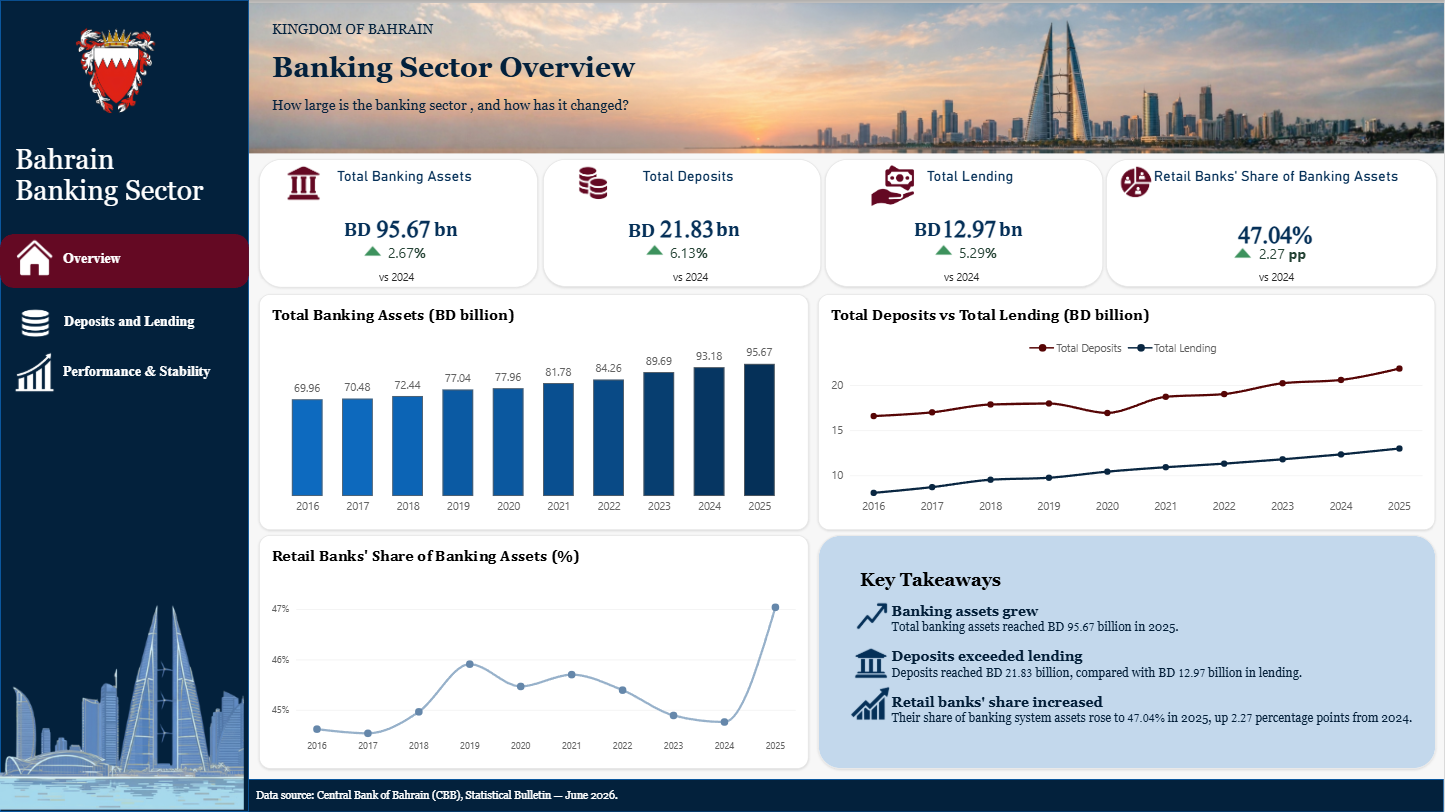

The dashboard page shown, as its layout file describes it:
{"tool":"powerbi","page":{"name":"Overview","canvas":[1920,1080],"ordinal":0},"visuals":[{"type":"shape","box":[0,1035.6,1920.3,44.4],"z":0},{"type":"image","box":[316.1,0,1603.9,175.8],"z":1000},{"type":"image","box":[316.1,0,1603.8,208.7],"z":2000},{"type":"shape","box":[0,0,331.2,1079.6],"z":3000},{"type":"shape","box":[0,311.2,331.2,71.8],"z":4000},{"type":"image","box":[33.3,0,244.7,190.2],"z":5000},{"type":"textbox","box":[20.2,189.9,320.5,102.3],"z":6000},{"type":"image","box":[20.2,311.1,52.5,61.9],"z":7000},{"type":"image","box":[20.2,405.3,52.5,45.8],"z":8000},{"type":"image","box":[10.8,464.6,72.7,61.9],"z":9000},{"type":"textbox","box":[83.5,332.6,106.4,35],"z":11000},{"type":"textbox","box":[84.8,416.1,193.9,35],"z":12000},{"type":"textbox","box":[83.8,482.8,210.1,57.2],"z":13000},{"type":"textbox","box":[362.2,28.3,558.9,184.5],"z":15000},{"type":"image","box":[0,787.8,331.2,291.8],"z":16000},{"type":"kpi","title":"Total Banking Assets","fields":{"Indicator":["Page1_Overview.Total Banking Assets BD"],"TrendLine":["Page1_Overview.Year"]},"box":[344.3,211.6,370.6,170.7],"z":17000},{"type":"kpi","title":"Total Deposits ","fields":{"Indicator":["Page1_Overview.Total Deposits BD"],"TrendLine":["Page1_Overview.Year"]},"box":[722.2,211.5,369.8,170.2],"z":18000},{"type":"kpi","title":"Total Lending","fields":{"Indicator":["Page1_Overview.Total Lending Latest BD"],"TrendLine":["Page1_Overview.Year"]},"box":[1097.3,211.5,369.8,170.2],"z":19000},{"type":"kpi","title":"   Retail Banks'' Share of Banking Assets","fields":{"Indicator":["Page1_Overview.Retail Asset Share Display"],"TrendLine":["Page1_Overview.Year"]},"box":[1471,211.5,440.2,170.2],"z":20000},{"type":"textbox","box":[458,289,40.9,39.4],"z":21000},{"type":"textbox","box":[577.2,289,58.5,31.9],"z":22000},{"type":"image","box":[474.8,321.9,40.9,24.8],"z":23000},{"type":"textbox","box":[504.1,359.1,50.5,29.3],"z":24000},{"type":"textbox","box":[516.1,323.2,90.5,39.4],"z":25000},{"type":"textbox","box":[952,289,58.5,37.2],"z":26000},{"type":"textbox","box":[835,290,39.9,43.9],"z":27000},{"type":"image","box":[849.9,321,40.9,24.8],"z":28000},{"type":"textbox","box":[895.1,359,49.2,29.3],"z":29000},{"type":"textbox","box":[891.1,323,90.5,39.4],"z":30000},{"type":"textbox","box":[1215,288.6,37.2,39.9],"z":31000},{"type":"textbox","box":[1329,289,58.4,52.5],"z":32000},{"type":"image","box":[1234.3,320.5,40.9,24.8],"z":33000},{"type":"textbox","box":[1275.5,323.2,90.5,39.4],"z":34000},{"type":"textbox","box":[1255.6,359,59.9,29.3],"z":35000},{"type":"textbox","box":[1674.5,359,67.1,29.2],"z":36000},{"type":"image","box":[1632.6,323.9,40.9,24.8],"z":37000},{"type":"textbox","box":[1674.9,323.9,90.5,39.4],"z":38000},{"type":"image","box":[361.8,218.1,83.8,50.5],"z":39000},{"type":"image","box":[747.5,218.1,82.5,49.2],"z":40000},{"type":"image","box":[1469.7,218.1,82.5,49.2],"z":41000},{"type":"clusteredColumnChart","title":"Total Banking Assets (BD billion)","fields":{"Category":["Page1_Overview.Year"],"Y":["Page1_Overview.Total Banking Assets BD"]},"box":[344.3,391,730.9,313.7],"z":42000},{"type":"lineChart","title":"Total Deposits vs Total Lending (BD billion)","fields":{"Category":["Page1_Overview.Year"],"Y":["Page1_Overview.Deposits Trend BD","Page1_Overview.Lending Trend BD"]},"box":[1088.4,391,821.4,313.7],"z":43000},{"type":"shape","box":[1088,711.6,822,311.2],"z":44000},{"type":"lineChart","title":"Retail Banks'' Share of Banking Assets (%)","fields":{"Category":["Page1_Overview.Year"],"Y":["Page1_Overview.Retail Asset Share Display"]},"box":[344.3,712,730.9,310.8],"z":45000},{"type":"textbox","box":[1143.8,756.8,776.2,265.5],"z":46000},{"type":"image","box":[1130.5,787.4,56,64],"z":47000},{"type":"image","box":[1130.5,901.8,56,64],"z":48000},{"type":"image","box":[1130.5,851.2,56,64],"z":49000},{"type":"image","box":[1138.5,208.8,94.4,75.8],"z":50000},{"type":"shape","box":[0,310.8,331.2,71.8],"z":50001},{"type":"shape","box":[0,392.5,331.2,71.8],"z":50002},{"type":"shape","box":[0,468.3,331.2,71.8],"z":50003},{"type":"textbox","box":[340.5,1048.1,637.1,30.6],"z":50004}]}

Visuals, with their boxes in screenshot pixels (x1, y1, x2, y2), scaled from the page's 1920x1080 canvas onto the 1445x812 screenshot:
shape: <bbox>0, 779, 1444, 811</bbox>
image: <bbox>238, 0, 1444, 132</bbox>
image: <bbox>238, 0, 1444, 157</bbox>
shape: <bbox>0, 0, 249, 811</bbox>
shape: <bbox>0, 234, 249, 288</bbox>
image: <bbox>25, 0, 209, 143</bbox>
textbox: <bbox>15, 143, 256, 220</bbox>
image: <bbox>15, 234, 55, 280</bbox>
image: <bbox>15, 305, 55, 339</bbox>
image: <bbox>8, 349, 63, 396</bbox>
textbox: <bbox>63, 250, 143, 276</bbox>
textbox: <bbox>64, 313, 210, 339</bbox>
textbox: <bbox>63, 363, 221, 406</bbox>
textbox: <bbox>273, 21, 693, 160</bbox>
image: <bbox>0, 592, 249, 811</bbox>
"Total Banking Assets" kpi: <bbox>259, 159, 538, 287</bbox>
"Total Deposits " kpi: <bbox>544, 159, 822, 287</bbox>
"Total Lending" kpi: <bbox>826, 159, 1104, 287</bbox>
"   Retail Banks'' Share of Banking Assets" kpi: <bbox>1107, 159, 1438, 287</bbox>
textbox: <bbox>345, 217, 375, 247</bbox>
textbox: <bbox>434, 217, 478, 241</bbox>
image: <bbox>357, 242, 388, 261</bbox>
textbox: <bbox>379, 270, 417, 292</bbox>
textbox: <bbox>388, 243, 457, 273</bbox>
textbox: <bbox>716, 217, 761, 245</bbox>
textbox: <bbox>628, 218, 658, 251</bbox>
image: <bbox>640, 241, 670, 260</bbox>
textbox: <bbox>674, 270, 711, 292</bbox>
textbox: <bbox>671, 243, 739, 272</bbox>
textbox: <bbox>914, 217, 942, 247</bbox>
textbox: <bbox>1000, 217, 1044, 257</bbox>
image: <bbox>929, 241, 960, 260</bbox>
textbox: <bbox>960, 243, 1028, 273</bbox>
textbox: <bbox>945, 270, 990, 292</bbox>
textbox: <bbox>1260, 270, 1311, 292</bbox>
image: <bbox>1229, 244, 1259, 262</bbox>
textbox: <bbox>1261, 244, 1329, 273</bbox>
image: <bbox>272, 164, 335, 202</bbox>
image: <bbox>563, 164, 625, 201</bbox>
image: <bbox>1106, 164, 1168, 201</bbox>
"Total Banking Assets (BD billion)" clusteredColumnChart: <bbox>259, 294, 809, 530</bbox>
"Total Deposits vs Total Lending (BD billion)" lineChart: <bbox>819, 294, 1437, 530</bbox>
shape: <bbox>819, 535, 1437, 769</bbox>
"Retail Banks'' Share of Banking Assets (%)" lineChart: <bbox>259, 535, 809, 769</bbox>
textbox: <bbox>861, 569, 1444, 769</bbox>
image: <bbox>851, 592, 893, 640</bbox>
image: <bbox>851, 678, 893, 726</bbox>
image: <bbox>851, 640, 893, 688</bbox>
image: <bbox>857, 157, 928, 214</bbox>
shape: <bbox>0, 234, 249, 288</bbox>
shape: <bbox>0, 295, 249, 349</bbox>
shape: <bbox>0, 352, 249, 406</bbox>
textbox: <bbox>256, 788, 736, 811</bbox>
